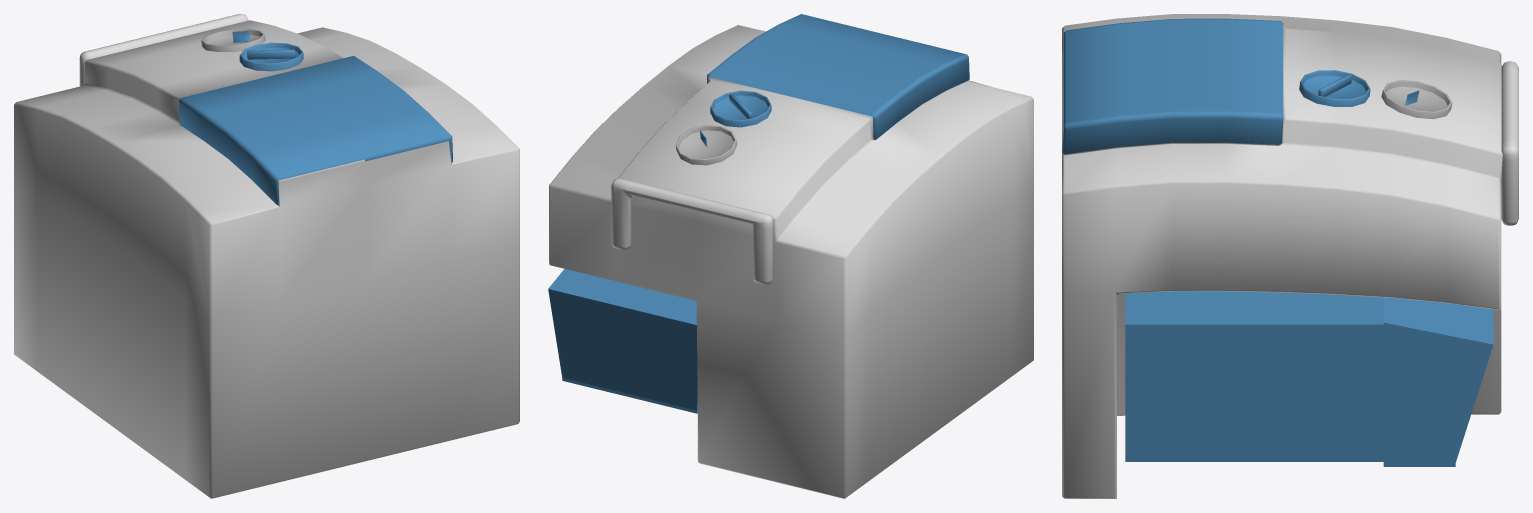
The picture shows the model from 3 angles, left to right: view 1: azimuth 30°, elevation 25°; view 2: azimuth 150°, elevation 25°; view 3: azimuth 270°, elevation 25°; orthographic projection. The views are drawn at different scales.
Parts seen in each view (by area): view 1: Cube.001; view 2: Cube.001; view 3: Cube.001.
Part boxes in pixels (bbox=[...]): Cube.001: bbox=[14, 14, 519, 498]; Cube.001: bbox=[548, 14, 1033, 498]; Cube.001: bbox=[1062, 14, 1518, 498].
Size of the model in its own units: 24.17 by 23.1 by 27.26.
